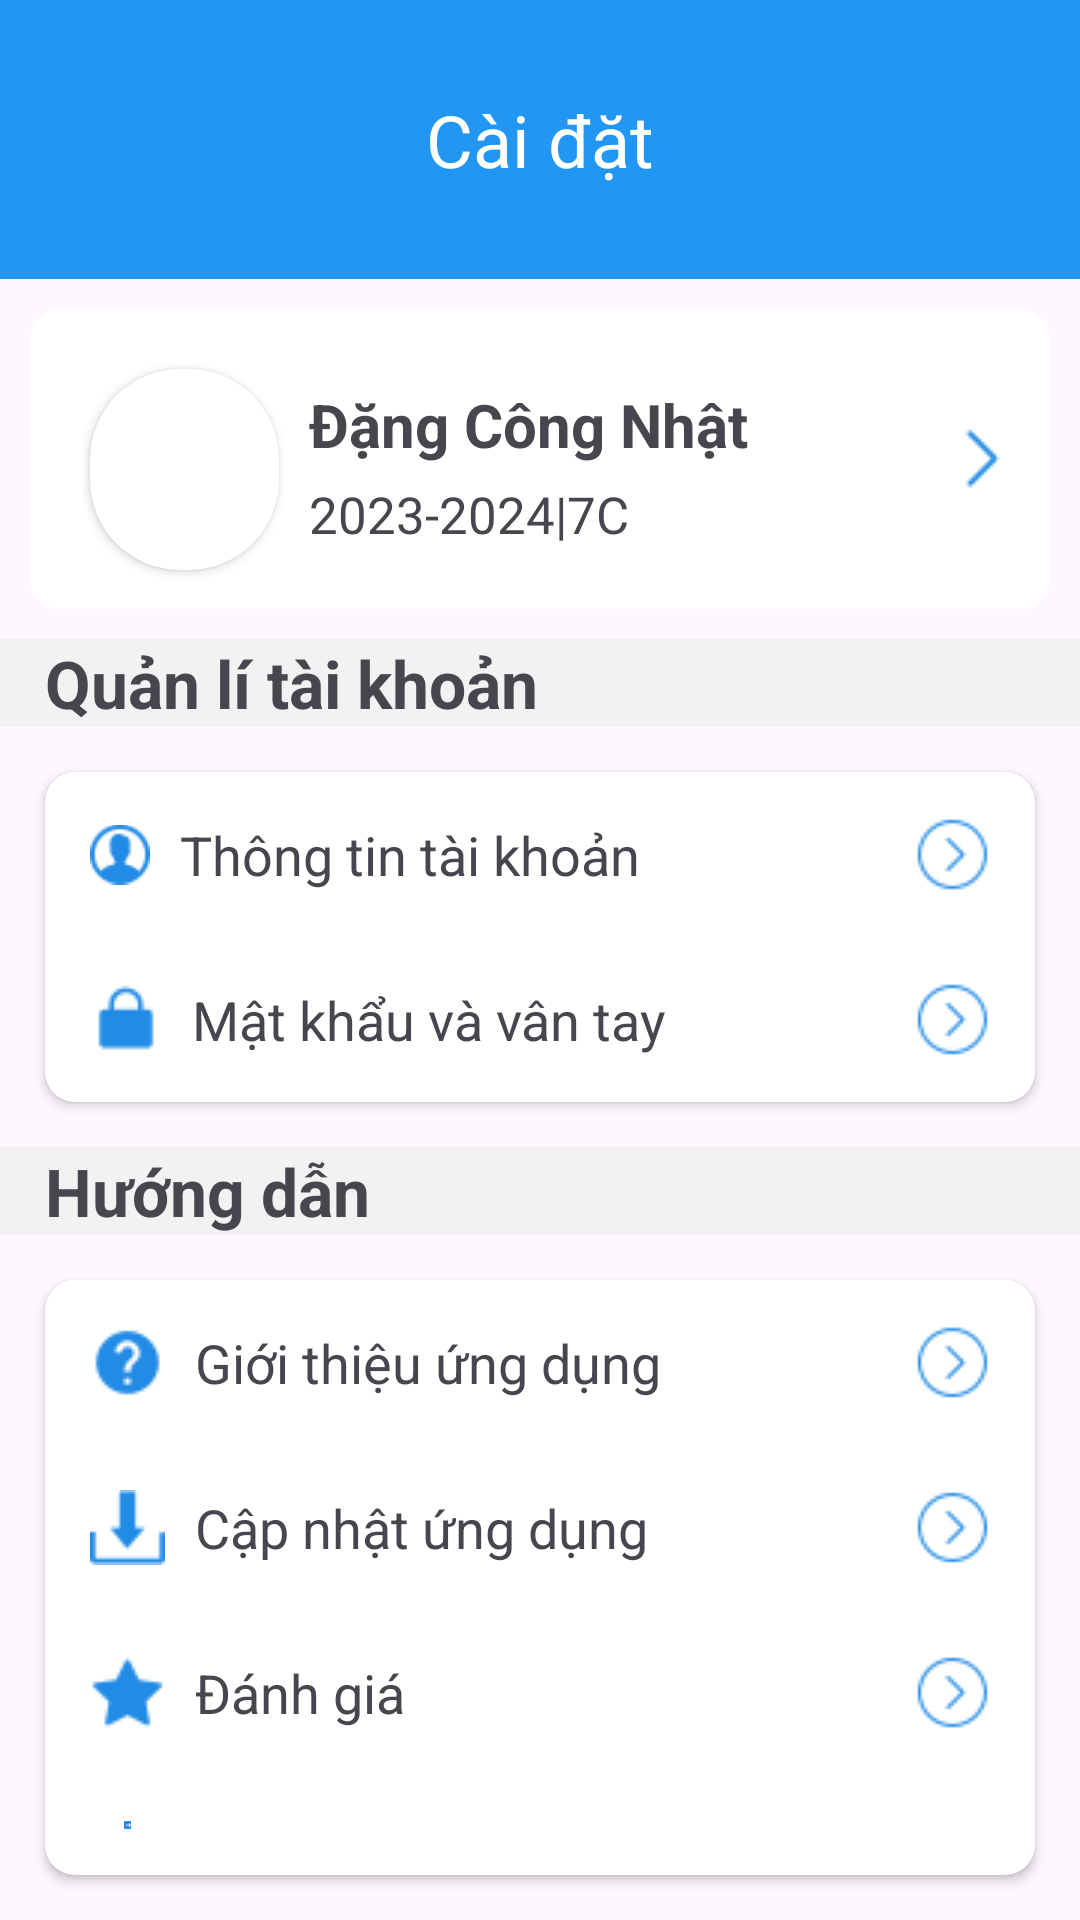

Icons on this 1080px x 1920px Android screen, each with its box as (x1, y1, x2, y2):
arrowblue: (917, 819, 988, 890), (917, 984, 988, 1055), (917, 1327, 988, 1398), (917, 1492, 988, 1563), (917, 1657, 988, 1728)
bluestar: (92, 1657, 163, 1727)
install: (90, 1490, 165, 1565)
quesstion: (95, 1330, 160, 1395)
userblue: (90, 825, 150, 885)
